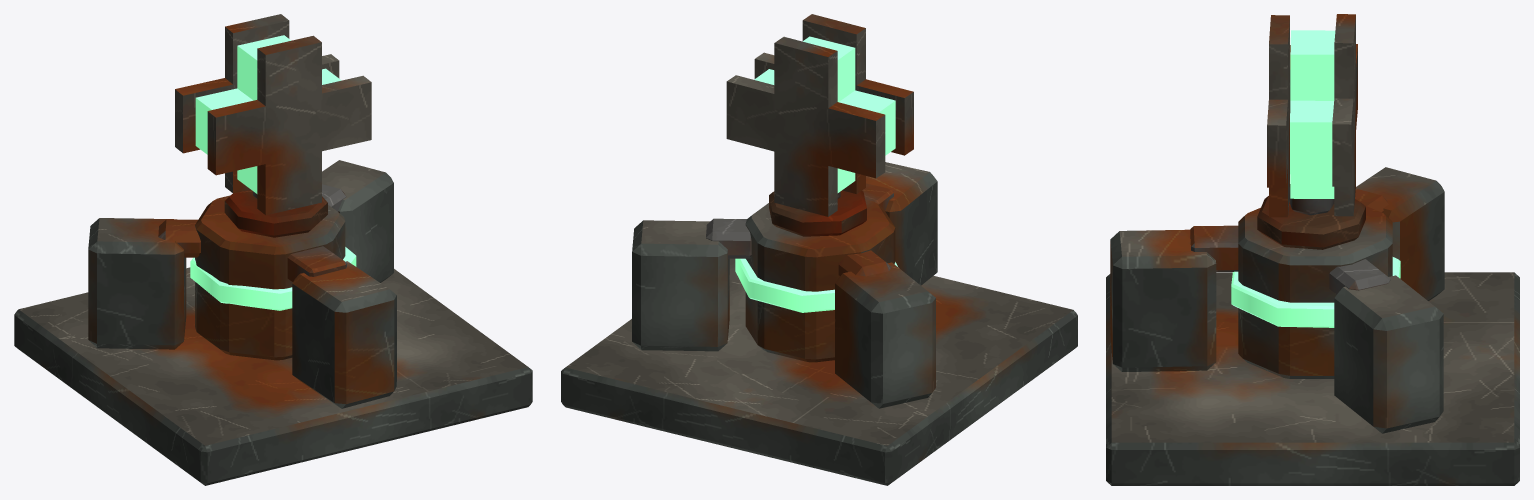
The model's file is R4X_RepairTurretDeployer_LOD1.glb.
The picture shows the model from 3 angles, left to right: view 1: azimuth 30°, elevation 25°; view 2: azimuth 150°, elevation 25°; view 3: azimuth 270°, elevation 25°; orthographic projection. The views are drawn at different scales.
Visible parts, largest first — view 1: R4X_RepairTurretDeployer_LOD1; view 2: R4X_RepairTurretDeployer_LOD1; view 3: R4X_RepairTurretDeployer_LOD1.
Boxes of the visible parts, x1,y1,x2,y2 form: R4X_RepairTurretDeployer_LOD1: (14, 14, 532, 485); R4X_RepairTurretDeployer_LOD1: (561, 14, 1077, 485); R4X_RepairTurretDeployer_LOD1: (1106, 14, 1519, 485).
Bounding box in the file's own units: 0.52 × 0.515 × 0.52.
5 materials, 4 textured.
